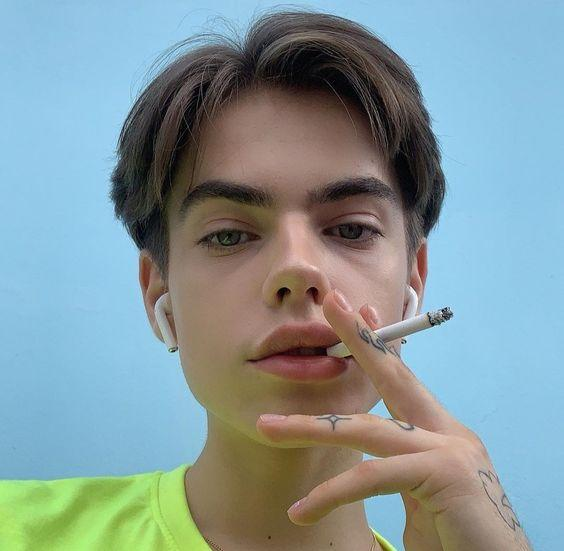cigarette: (327, 306, 454, 359)
